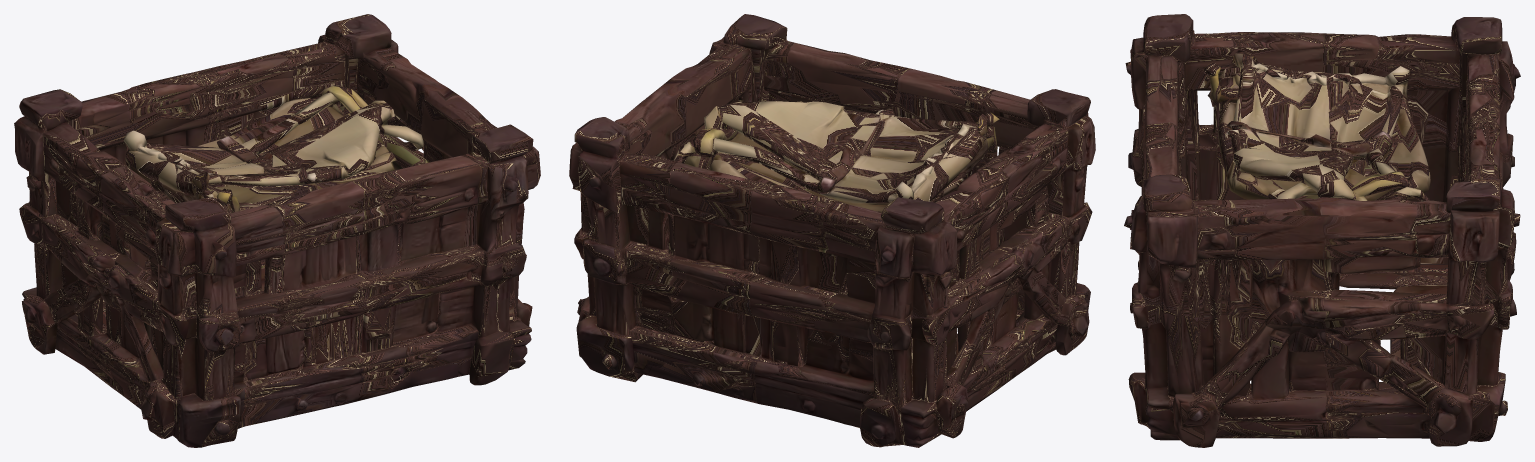
File: caja-lona.glb
3 views of the same model, side by side, from view 1: azimuth 30°, elevation 25°; view 2: azimuth 150°, elevation 25°; view 3: azimuth 270°, elevation 25° (orthographic). The views are drawn at different scales.
Size of the model in its own units: 0.9806 by 0.5854 by 0.8234.
1 material, 1 textured.
